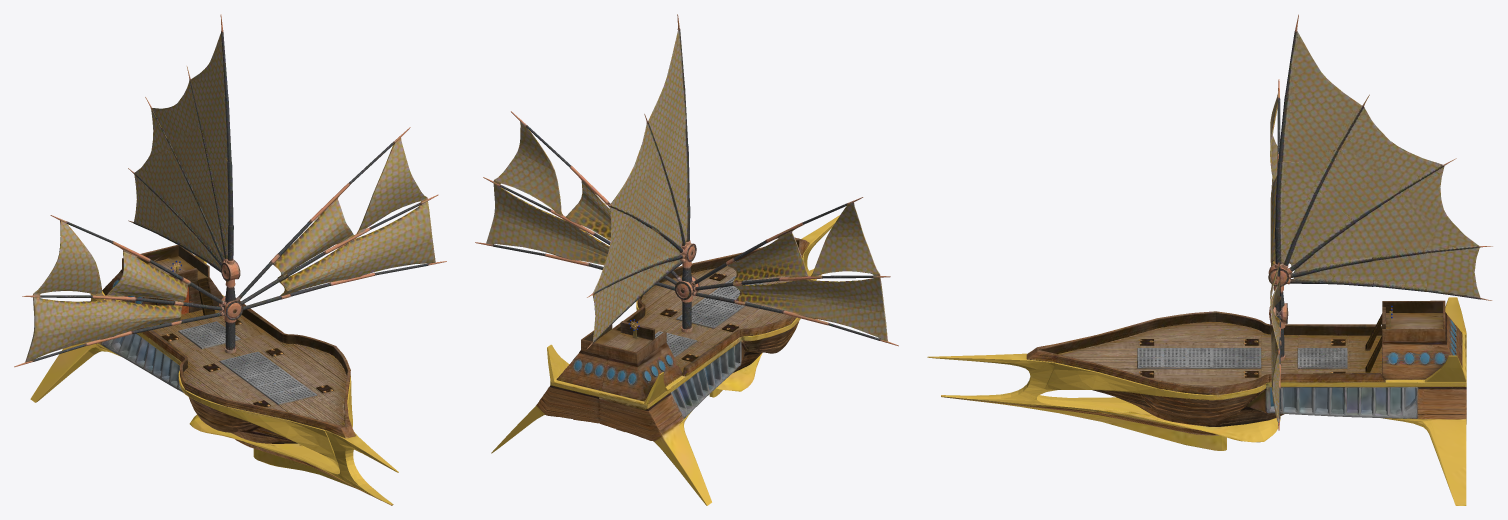
Rendered from MZ4250 - Spelljammership.glb.
3 renders of one model, left to right at view 1: azimuth 30°, elevation 25°; view 2: azimuth 150°, elevation 25°; view 3: azimuth 270°, elevation 25°, orthographic. The views are drawn at different scales.
Parts seen in each view (by area): view 1: spelljammer-ship.001; view 2: spelljammer-ship.001; view 3: spelljammer-ship.001.
Part boxes in pixels (bbox=[...]): spelljammer-ship.001: bbox=[14, 14, 446, 505]; spelljammer-ship.001: bbox=[475, 14, 898, 505]; spelljammer-ship.001: bbox=[927, 14, 1492, 505].
Size of the model in its own units: 330 by 304 by 358.
1 material, 1 textured.
